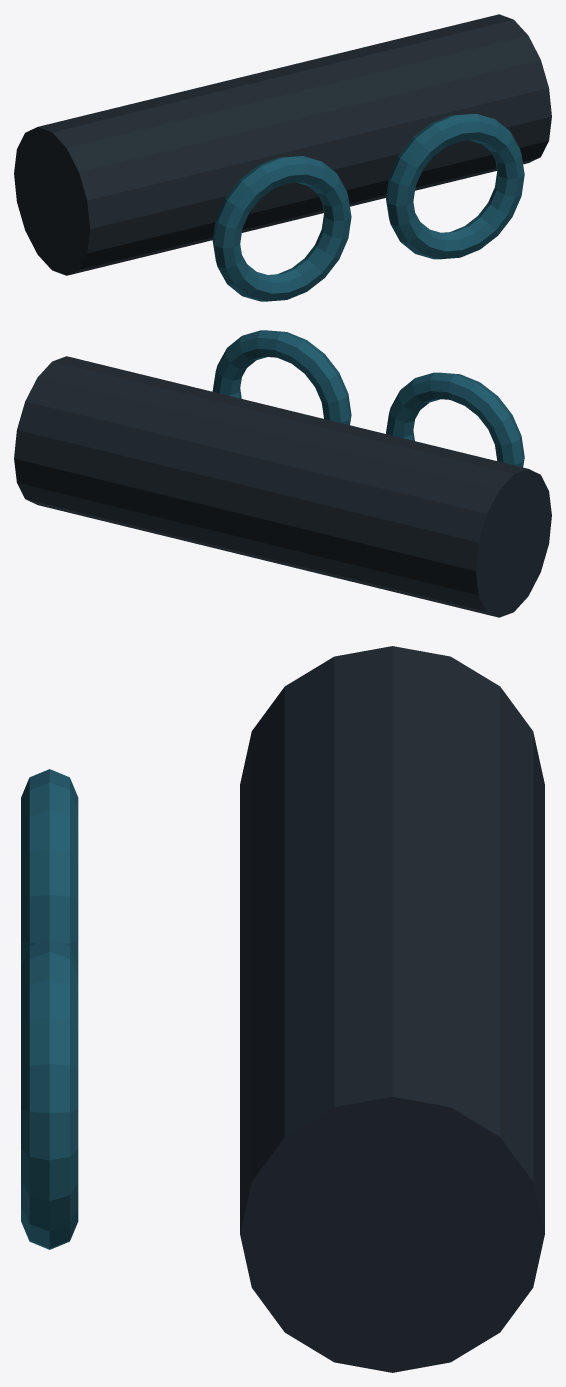
The model's file is binoculars.obj.
3 views of the same model, one above another, from view 1: azimuth 30°, elevation 25°; view 2: azimuth 150°, elevation 25°; view 3: azimuth 270°, elevation 25° (orthographic). The views are drawn at different scales.
Visible parts, largest first — view 1: painted_metal, glass; view 2: painted_metal, glass; view 3: painted_metal, glass.
Boxes of the visible parts, bbox=[...] form: painted_metal: bbox=[14, 14, 551, 275]; glass: bbox=[212, 114, 524, 301]; painted_metal: bbox=[14, 356, 551, 617]; glass: bbox=[212, 330, 524, 467]; painted_metal: bbox=[240, 646, 544, 1372]; glass: bbox=[21, 769, 78, 1249].
Size of the model in its own units: 2.24 by 0.66 by 1.1.
